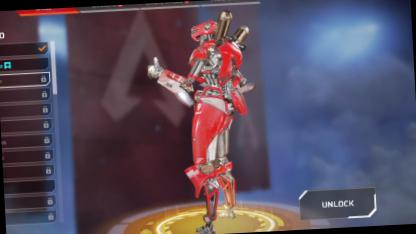Target: (176, 11, 256, 196)
